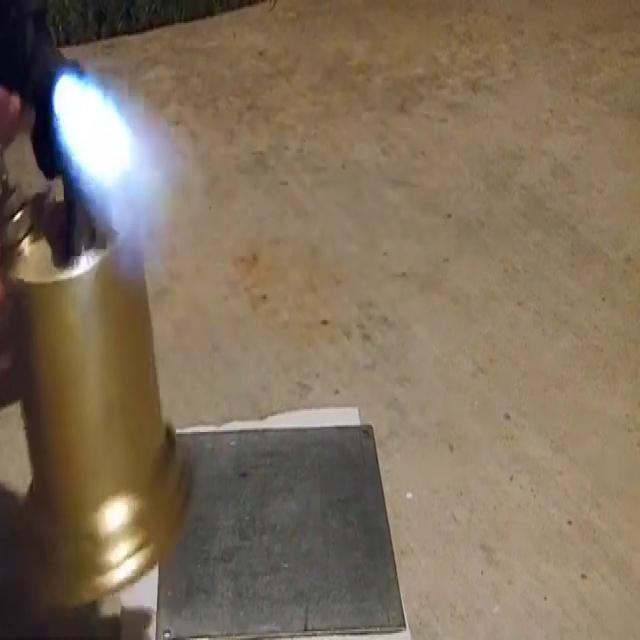fire: (38, 50, 197, 262)
